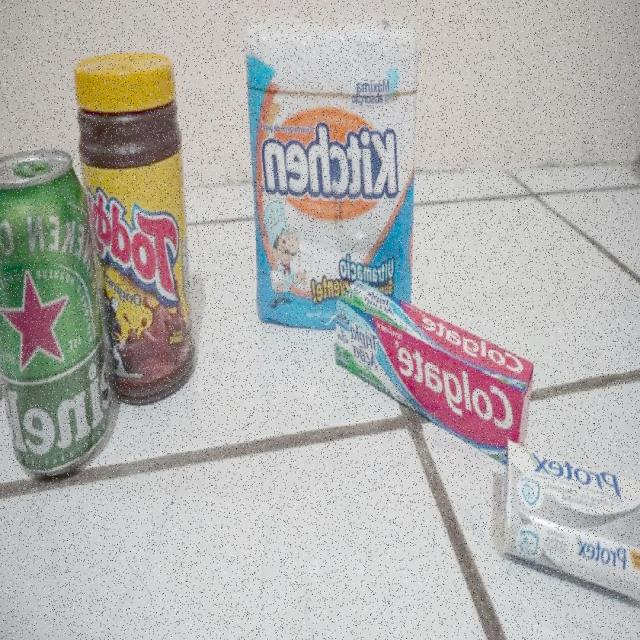BeerCan: (0, 153, 92, 479)
ChocolatePowder: (100, 53, 192, 396)
Napkin: (247, 23, 420, 273)
Soap: (499, 438, 640, 586)
Toothpaste: (337, 283, 536, 421)
